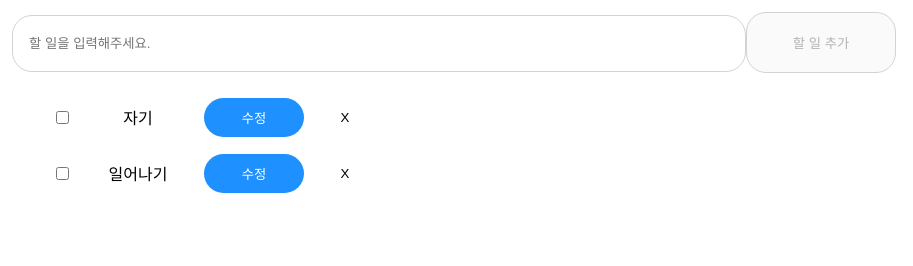
it: 할 일 목록 페이지 › 할 일을 입력한 후 추가 버튼을 누르면 › 할 일이 추가 된다.
Type "이불개기" into the field with test id "new-todo-input" at (379, 44), box x1=12 y1=15 x2=746 y2=72
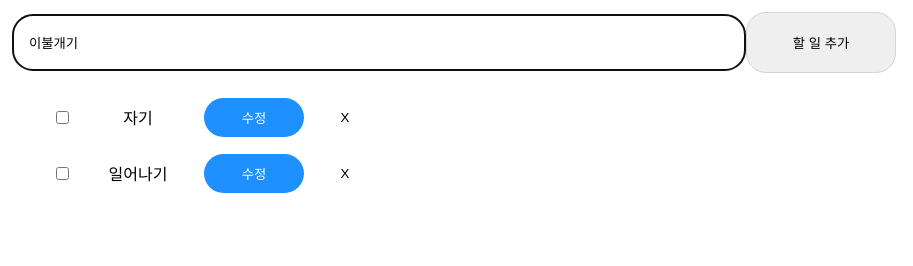
Click the button with test id "new-todo-add-button" at (821, 42), box x1=746 y1=12 x2=896 y2=73
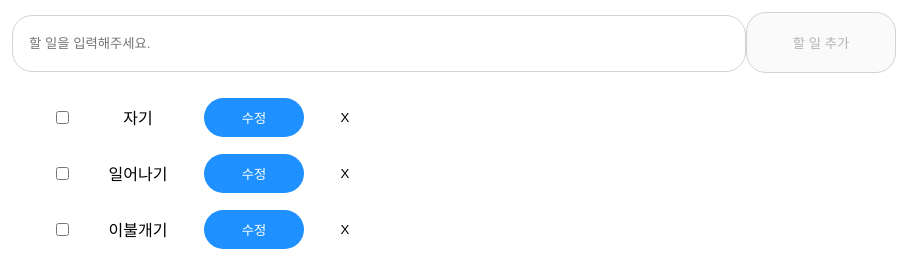
Expected: the text "이불개기" is shown, x1=108 y1=220 x2=167 y2=240
